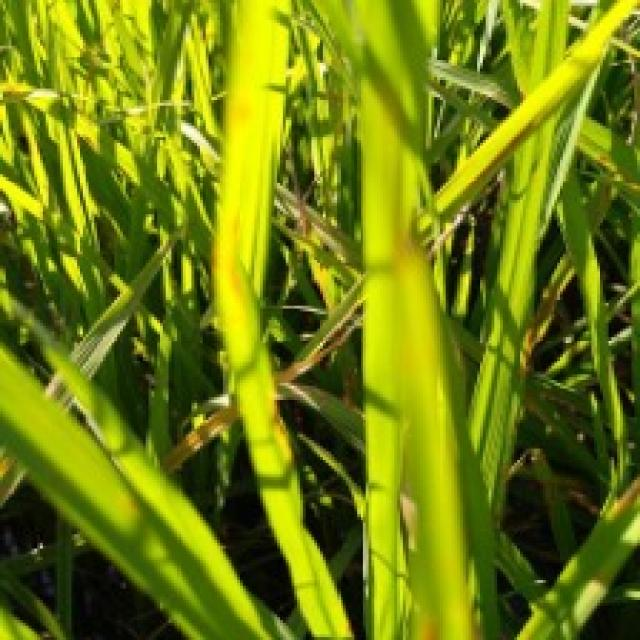Rice___Rice_Blast: (304, 0, 489, 637), (212, 0, 359, 637), (426, 1, 637, 254)
